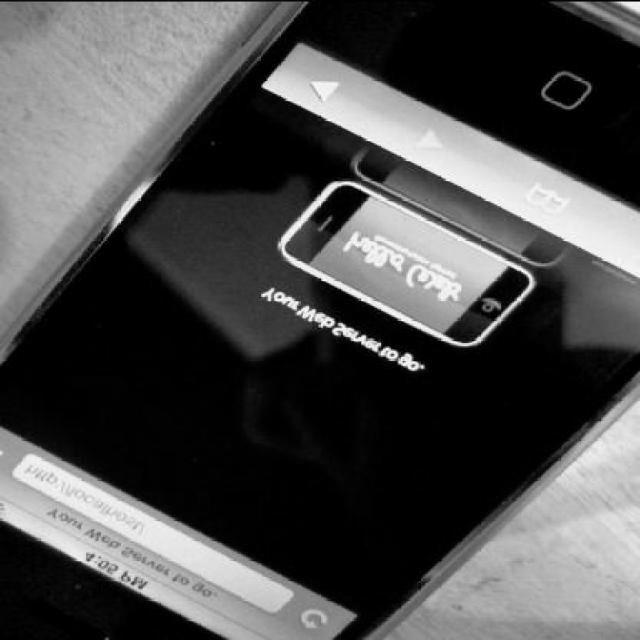fake: (0, 24, 634, 608)
